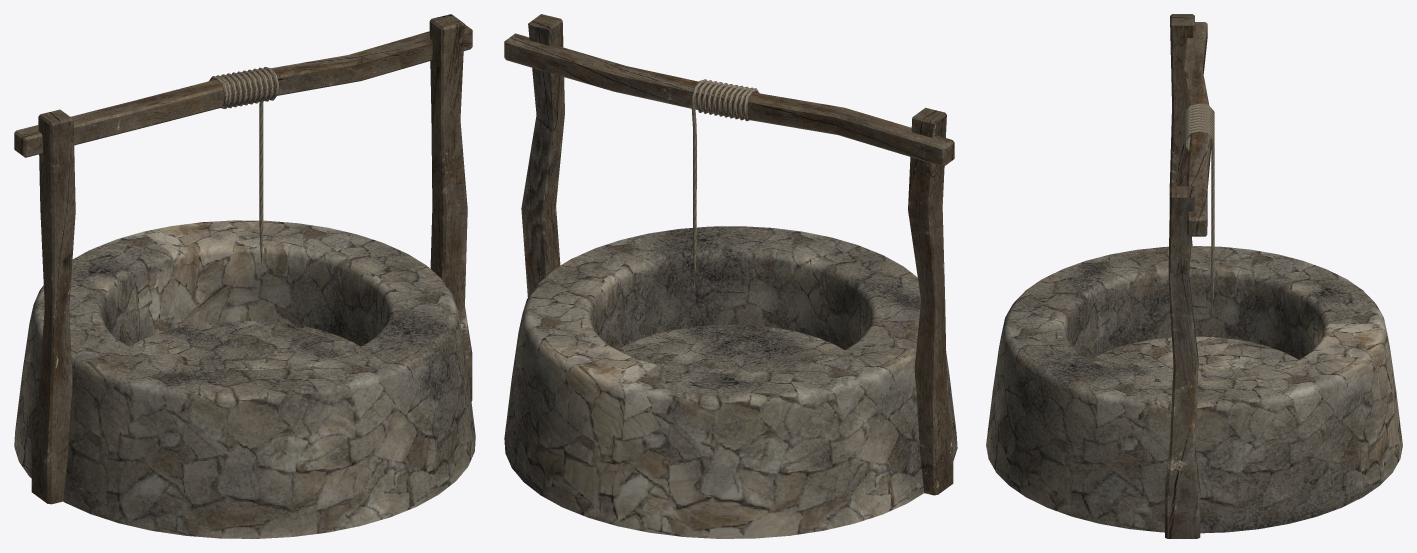
File: Well.fbx
The picture shows the model from 3 angles, left to right: view 1: azimuth 30°, elevation 25°; view 2: azimuth 150°, elevation 25°; view 3: azimuth 270°, elevation 25°; orthographic projection. The views are drawn at different scales.
Parts seen in each view (by area): view 1: pasted__pCube11; view 2: pasted__pCube11; view 3: pasted__pCube11.
Part boxes in pixels (box(x1,y1,x2,y2)): pasted__pCube11: box(14, 14, 475, 538); pasted__pCube11: box(504, 14, 957, 538); pasted__pCube11: box(986, 14, 1402, 538).
Bounding box in the file's own units: 138 × 111 × 123.
Materials: 1 (1 with a texture image).
